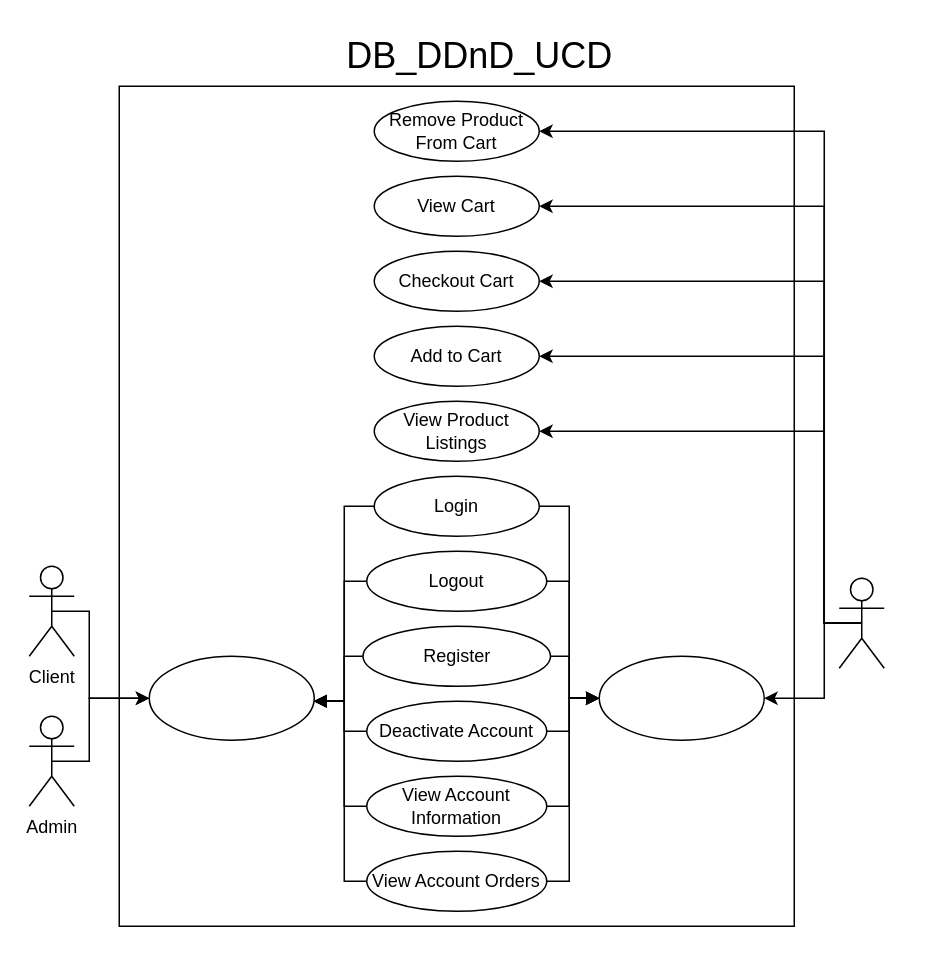
This 926x953 diagram has some shape labels left out. The centre of each missing label's shape, as x and y in pixels:
Customer: the point at 861,622
Manage All Accounts: the point at 231,697
Manage Individual Customer Account: the point at 681,697
